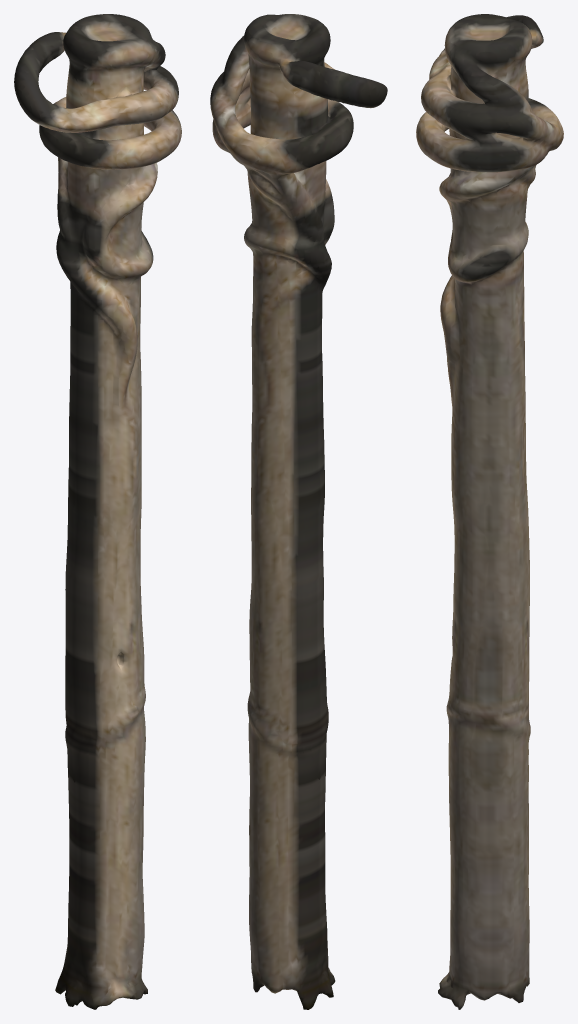
The model's file is fire-by-night-33.glb.
3 views of the same model, side by side, from view 1: azimuth 30°, elevation 25°; view 2: azimuth 150°, elevation 25°; view 3: azimuth 270°, elevation 25° (orthographic).
Bounding box in the file's own units: 0.3296 × 1.99 × 0.2732.
